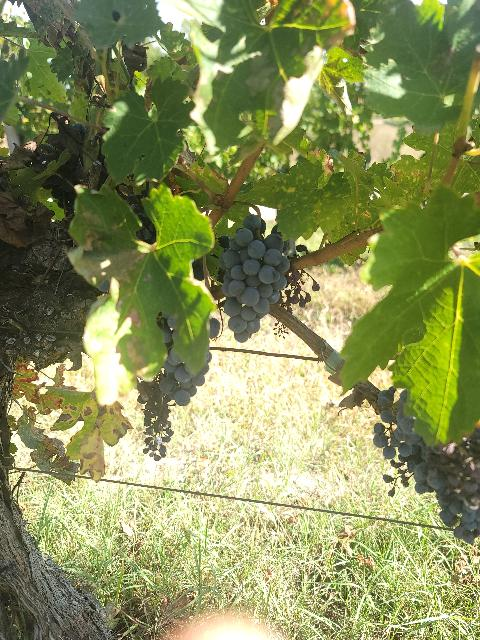grapes: (219, 215, 290, 342)
